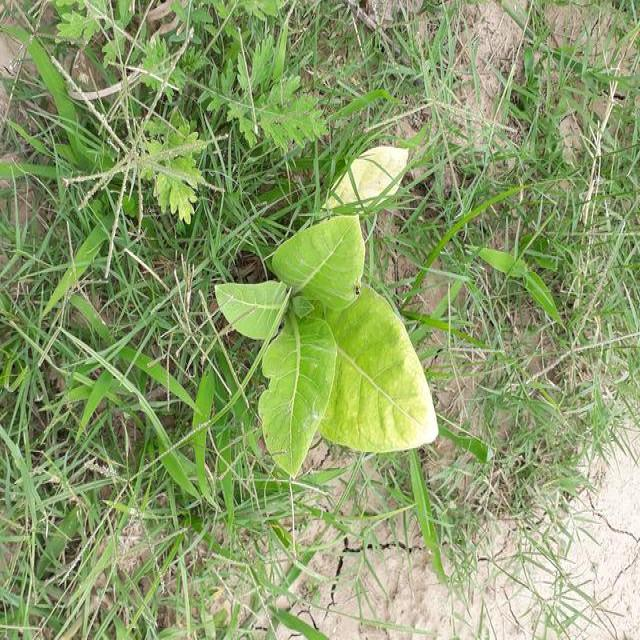crop: (218, 233, 444, 452)
